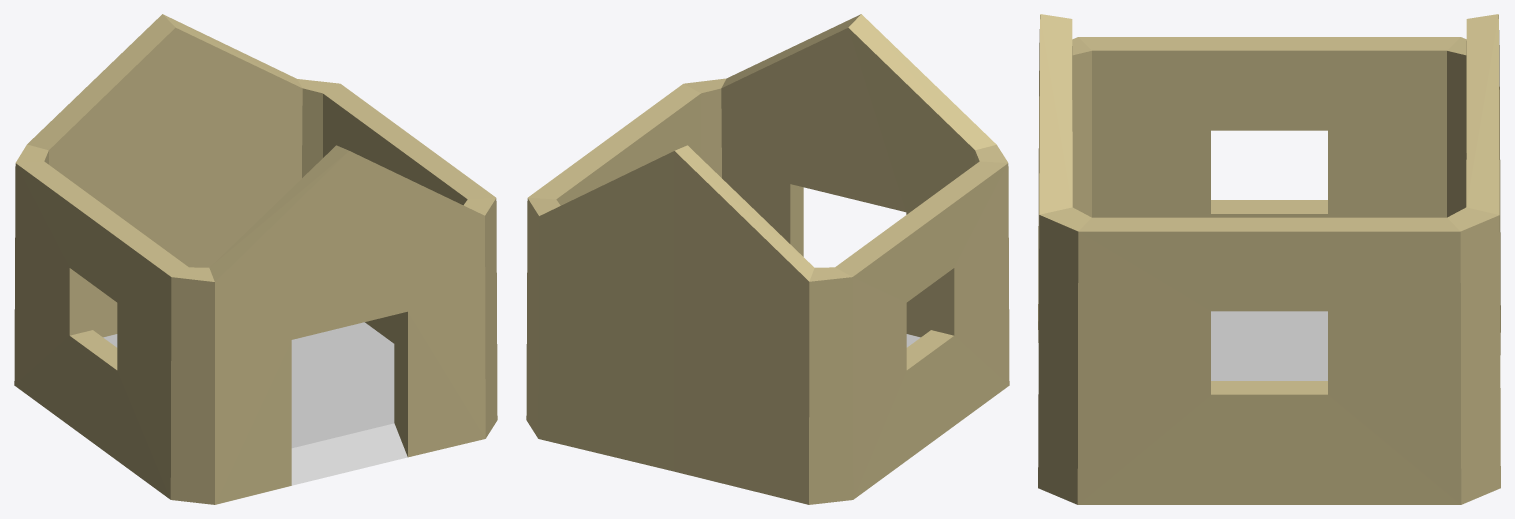
Rendered from 6x6house.fbx.
3 renders of one model, left to right at view 1: azimuth 30°, elevation 25°; view 2: azimuth 150°, elevation 25°; view 3: azimuth 270°, elevation 25°, orthographic. The views are drawn at different scales.
Visible parts, largest first — view 1: Plane.047; view 2: Plane.047; view 3: Plane.047.
Part boxes in pixels (x1=…): Plane.047: x1=14, y1=14, x2=497, y2=504; Plane.047: x1=526, y1=14, x2=1009, y2=504; Plane.047: x1=1038, y1=14, x2=1500, y2=504.
Size of the model in its own units: 704 by 659 by 704.
